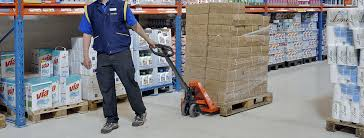Pallet Jack: (148, 43, 274, 117)
